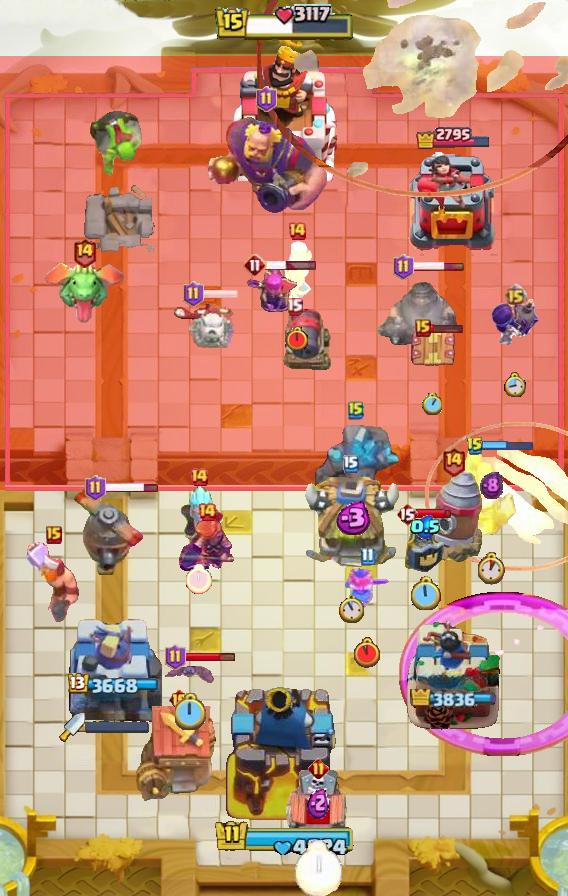bar: (66, 611, 162, 731)
bar-level: (87, 108, 145, 180)
barbarian-barrel: (164, 662, 218, 684)
cannon: (282, 241, 312, 305)
cannoneer-tower: (311, 424, 401, 526)
clock: (210, 818, 358, 860), (214, 5, 354, 44)
dark-prince: (66, 487, 154, 575)
electro-spirit: (331, 501, 372, 535), (411, 515, 441, 539), (307, 787, 329, 819), (480, 472, 503, 501)
electro-wizard: (42, 262, 126, 324)
elixir: (294, 840, 342, 896), (175, 693, 207, 731), (409, 575, 441, 612), (477, 552, 507, 585), (354, 637, 380, 668), (186, 564, 212, 594), (339, 595, 364, 623), (285, 326, 309, 352), (504, 371, 526, 396), (422, 393, 442, 415)
elixir-golem-mid: (283, 768, 353, 854)
emote: (104, 482, 159, 495), (482, 440, 534, 453), (411, 260, 465, 272), (183, 652, 236, 664), (265, 260, 317, 272), (201, 288, 239, 300), (416, 508, 452, 520), (428, 322, 463, 333)
evolution-symbol: (242, 264, 300, 322)
firecracker: (463, 443, 519, 540)
goblin-ball: (489, 297, 541, 351)
goblin-brawler: (407, 326, 457, 372)
hog-rider: (343, 567, 391, 621)
ice-wizard: (424, 421, 567, 570)
king-tower: (223, 680, 345, 826), (231, 43, 337, 181)
king-tower-bar: (85, 721, 149, 733)
knight-evolution: (400, 592, 568, 756)
lightning: (204, 117, 328, 215)
magic-archer: (423, 470, 483, 564)
mighty-miner: (26, 539, 82, 625)
mini-pekka: (170, 299, 250, 349)
mortar: (171, 484, 227, 552)
prince: (300, 477, 402, 573)
princess: (400, 511, 450, 575)
queen-tower: (404, 617, 502, 731), (408, 152, 498, 256)
royal-ghost: (256, 0, 567, 196)
royal-giant-evolution: (278, 305, 336, 375)
royal-guardian: (372, 270, 460, 352)
selected: (67, 673, 160, 697), (416, 125, 493, 149), (411, 689, 498, 707)
sparky: (136, 705, 222, 803)
tesla-evolution: (177, 516, 237, 574)
text: (71, 237, 96, 267), (442, 447, 467, 477), (243, 253, 267, 277), (505, 282, 528, 306), (168, 688, 191, 712), (256, 86, 277, 112), (394, 254, 415, 280), (183, 281, 204, 307), (85, 475, 106, 501), (165, 644, 186, 670), (396, 502, 418, 526), (307, 757, 328, 779), (287, 221, 307, 241), (189, 467, 209, 487), (197, 502, 217, 522), (466, 436, 484, 456), (348, 400, 364, 420), (286, 297, 303, 315), (415, 319, 431, 337), (343, 455, 359, 473), (46, 526, 62, 544), (360, 547, 375, 566)
